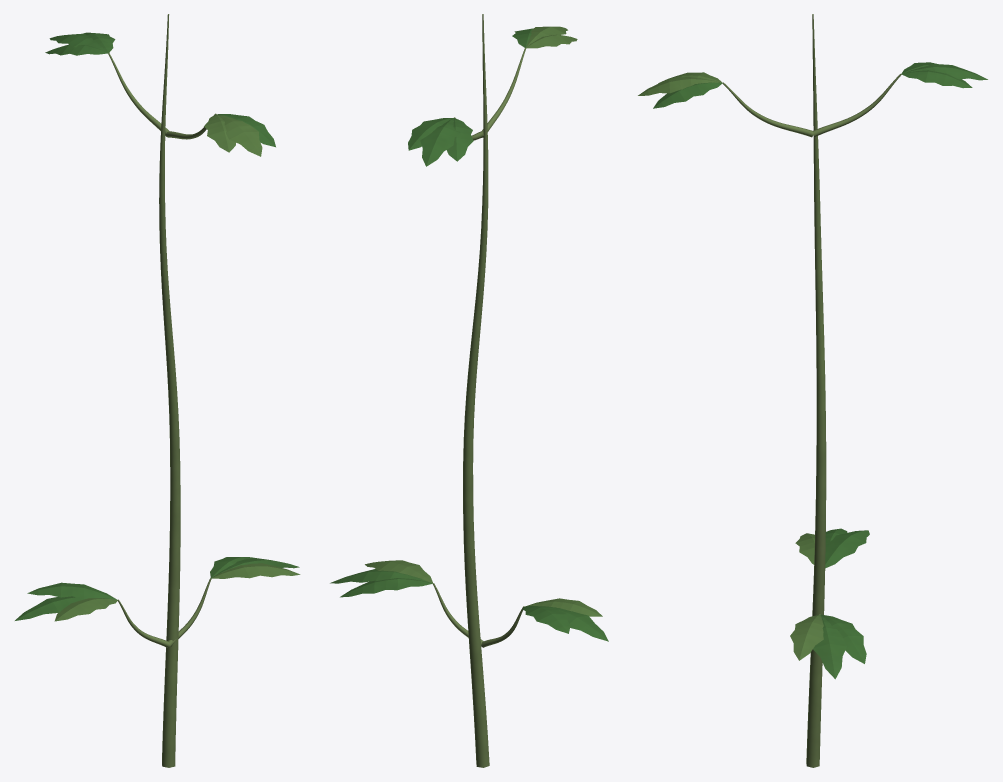
File: roslina_1.glb
3 views of the same model, side by side, from view 1: azimuth 30°, elevation 25°; view 2: azimuth 150°, elevation 25°; view 3: azimuth 270°, elevation 25° (orthographic).
Parts seen in each view (by area): view 1: Roslina; view 2: Roslina; view 3: Roslina.
Part boxes in pixels (bbox=[...]): Roslina: bbox=[15, 14, 300, 767]; Roslina: bbox=[330, 14, 608, 767]; Roslina: bbox=[638, 14, 987, 767].
Bounding box in the file's own units: 0.3946 × 1 × 0.4243.
Materials: 1 (1 with a texture image).
